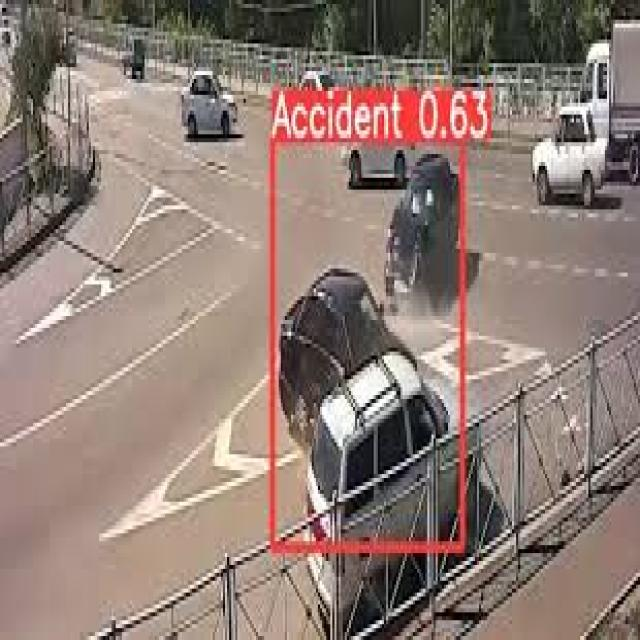car-minor-accident: (232, 143, 542, 608)
